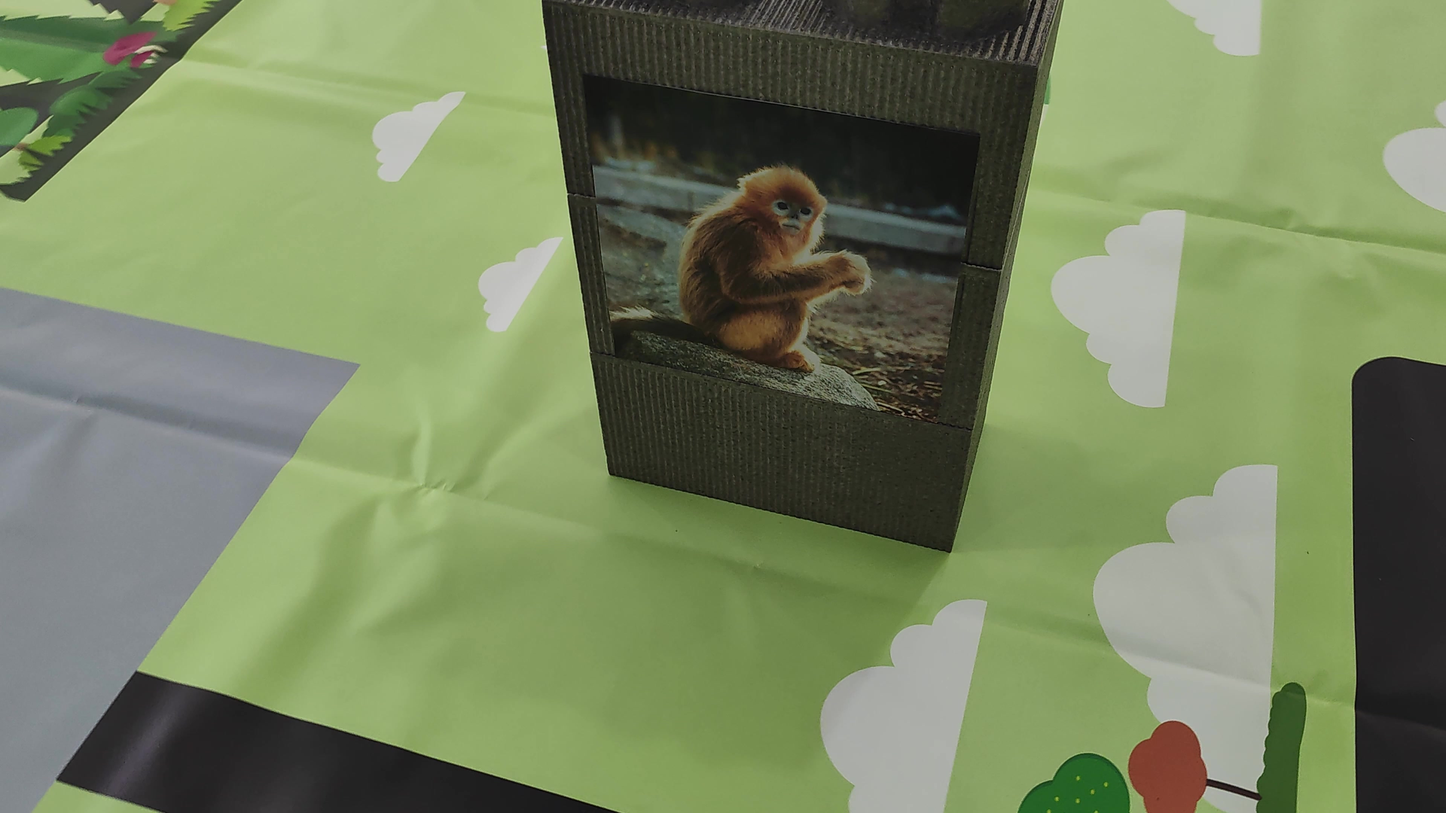monkey: (670, 163, 882, 428)
